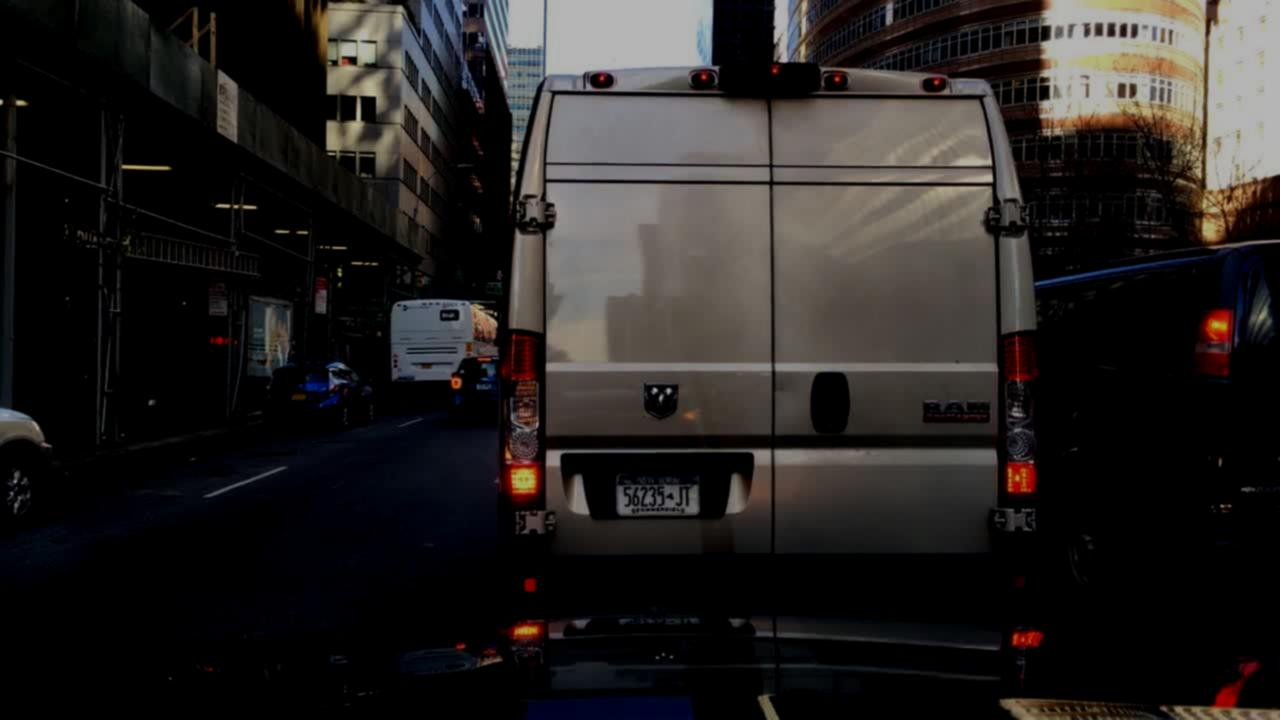ram: (637, 376, 685, 424)
